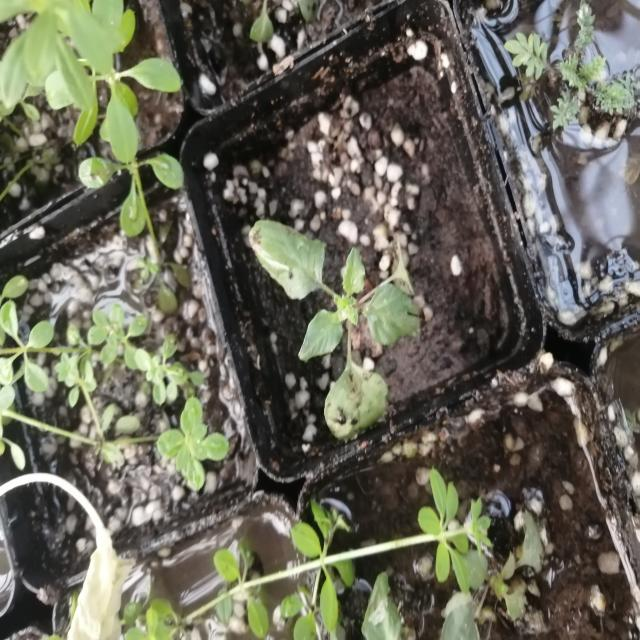pigweed: (262, 210, 418, 437)
